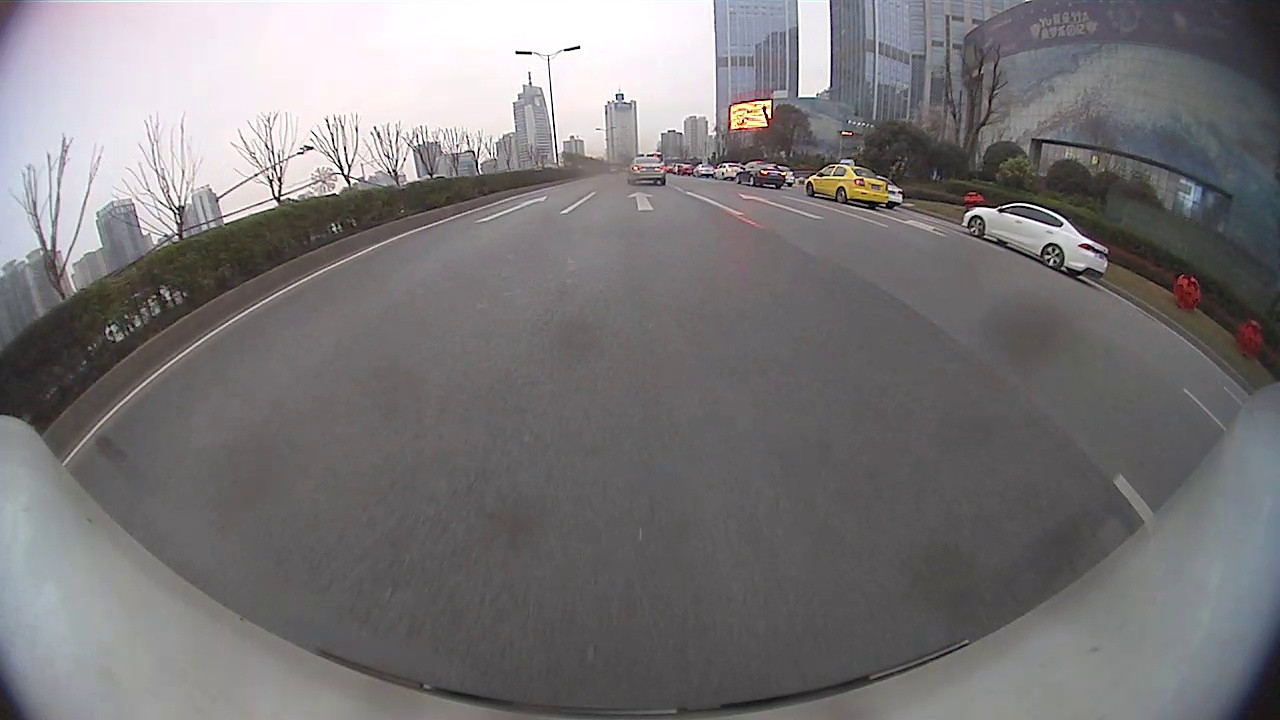car: (961, 198, 1111, 280), (803, 156, 892, 212), (733, 158, 788, 191), (623, 153, 668, 186), (873, 172, 906, 210)
front: (968, 217, 990, 239), (806, 181, 818, 197)
rear: (1044, 245, 1067, 270), (835, 187, 849, 204)
